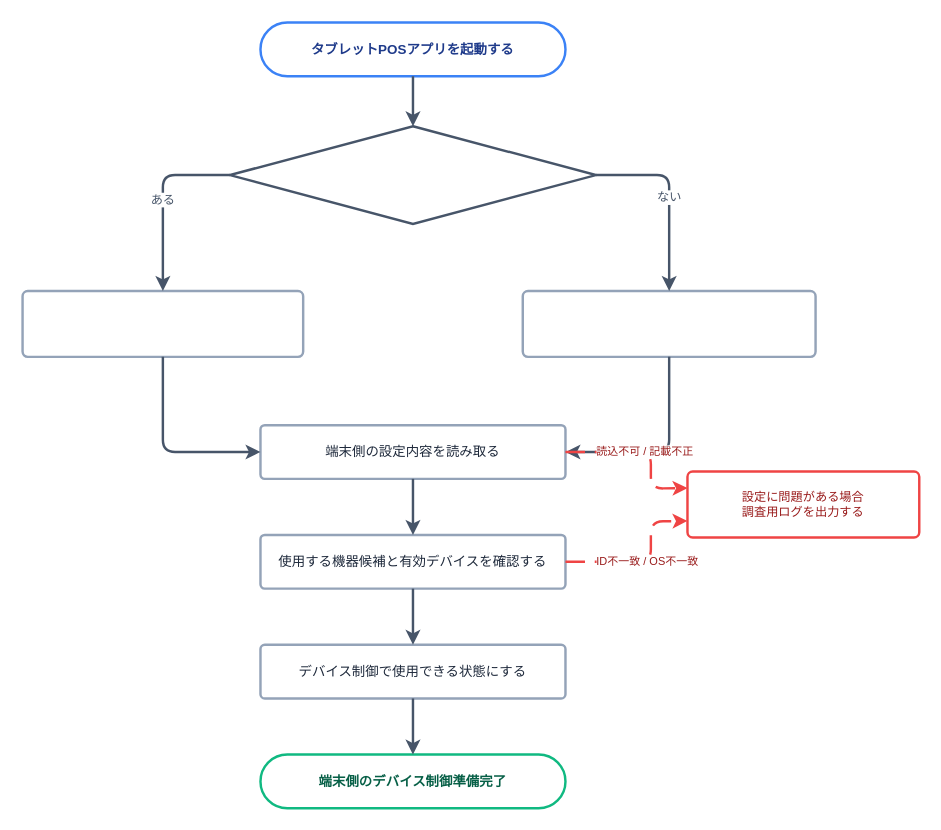
Image size: 941x830. Some labels were removed from this diagram. Each missing label, with the box of its shape:
アプリ同梱の初期設定を使用する Resources/Raw/device_controller_config.json: (521, 289, 816, 357)
端末別の設定を使用する AppData/device_controller_config.json: (21, 289, 304, 357)
端末別の設定ファイルがあるか: (228, 124, 597, 224)
